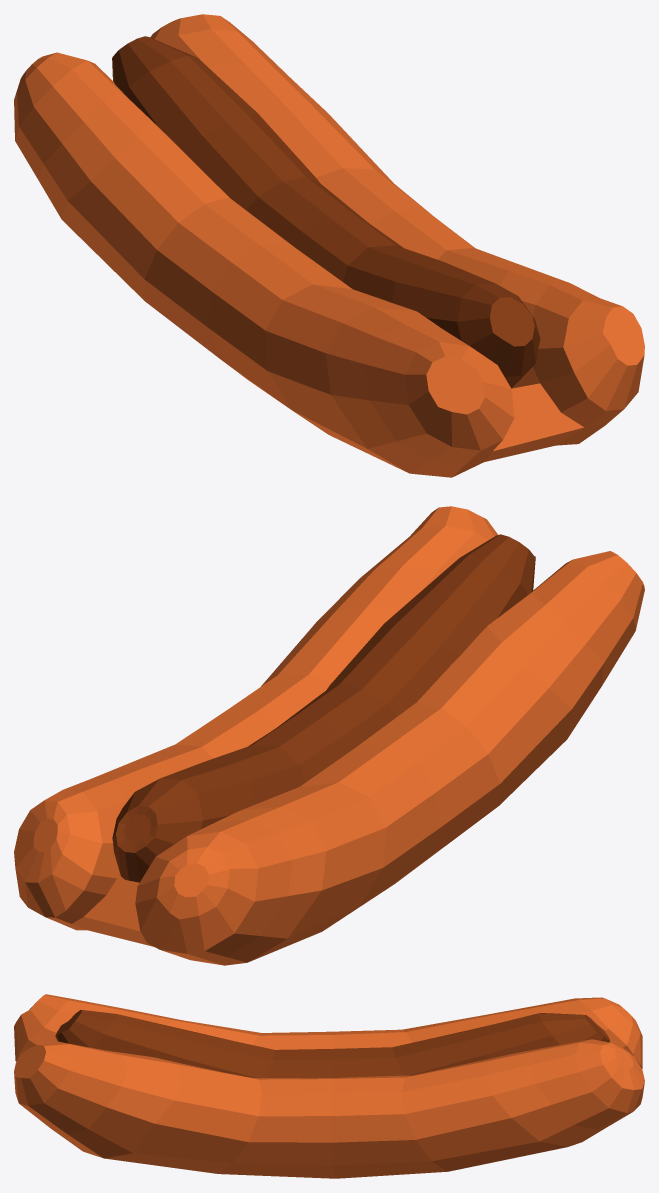
The model's file is HotDog.fbx.
The picture shows the model from 3 angles, top to bottom: view 1: azimuth 30°, elevation 25°; view 2: azimuth 150°, elevation 25°; view 3: azimuth 270°, elevation 25°; orthographic projection. The views are drawn at different scales.
Visible parts, largest first — view 1: Banana.003, Banana.002; view 2: Banana.003, Banana.002; view 3: Banana.003, Banana.002.
Boxes of the visible parts, <box> form: Banana.003: <box>14,14,644,477</box>; Banana.002: <box>112,36,540,388</box>; Banana.003: <box>14,506,644,965</box>; Banana.002: <box>112,534,535,882</box>; Banana.003: <box>14,994,644,1178</box>; Banana.002: <box>55,1010,609,1078</box>.
Size of the model in its own units: 41.91 by 31.18 by 126.
